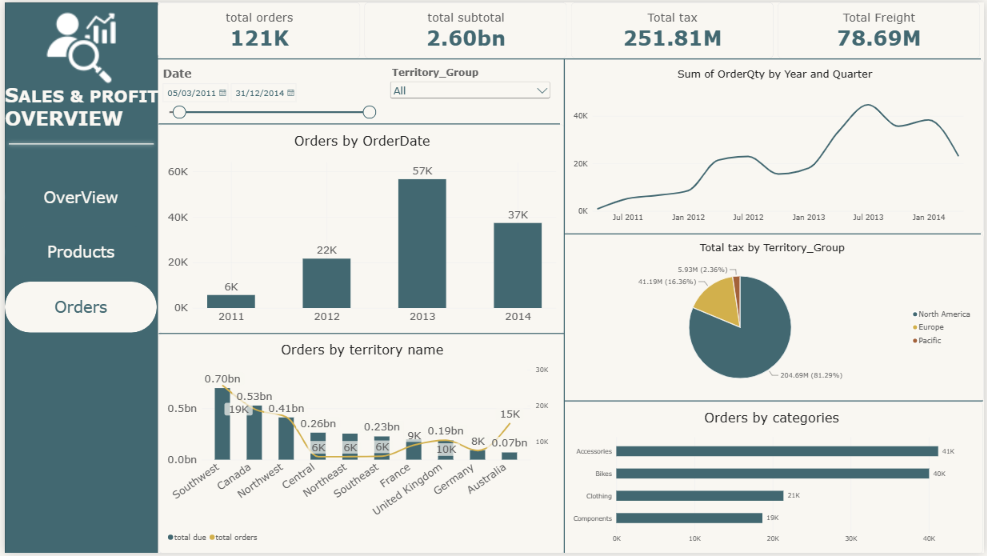

The dashboard page shown, as its layout file describes it:
{"tool":"powerbi","page":{"name":"Orders","canvas":[1920,1080],"ordinal":2},"visuals":[{"type":"pieChart","fields":{"Category":["dim territory.Territory_Group"],"Y":["Measures (2).Total tax"]},"box":[1088.2,452.9,831.4,329.4],"z":0},{"type":"shape","box":[0,0,300,1080.4],"z":1},{"type":"shape","box":[0,223.5,300,107.8],"z":3},{"type":"pageNavigator","box":[0,331.4,298,317.6],"z":4},{"type":"image","box":[0,19.6,300,139.2],"z":5},{"type":"textbox","box":[0,158.8,351,158.8],"z":6},{"type":"clusteredColumnChart","title":" Orders by OrderDate ","fields":{"Category":["DATE.YEAR.NUM","DATE.MONTHNUM"],"Y":["Measures (2).total orders"]},"box":[302,239.2,796.1,409.8],"z":7},{"type":"clusteredBarChart","title":" Orders by categories","fields":{"Category":["dim product.Product_Category","dim product.Product_Sub_Category","dim product.Product_Name"],"Y":["Measures (2).total orders"]},"box":[1088.2,782.4,829.4,298],"z":8},{"type":"lineStackedColumnComboChart","title":" Orders by territory name","fields":{"Category":["dim territory.Territory_Name"],"Y":["Measures (2).total due"],"Y2":["Measures (2).total orders"]},"box":[302,649,796.1,431.4],"z":9},{"type":"lineChart","fields":{"Category":["DATE.Date.Variation.Date Hierarchy.Year","DATE.Date.Variation.Date Hierarchy.Quarter","DATE.Date.Variation.Date Hierarchy.Month"],"Y":["Sum(fact orders.OrderQty)"]},"box":[1098,111.8,821.6,341.2],"z":10},{"type":"cardVisual","fields":{"Data":["Measures (2).total orders","Measures (2).total subtotal","Measures (2).Total tax","Measures (2).Total Freight"]},"box":[300,0,1613.7,109.8],"z":11},{"type":"slicer","fields":{"Values":["dim territory.Territory_Group"]},"box":[751,125.5,323.5,166.7],"z":12},{"type":"slicer","fields":{"Values":["DATE.Date"]},"box":[302,125.5,429.4,166.7],"z":13},{"type":"shape","box":[1098,727.5,819.6,107.8],"z":14},{"type":"shape","box":[302,223.5,798,29.4],"z":15},{"type":"shape","box":[298,56.9,1615.7,107.8],"z":16},{"type":"shape","box":[1098,400,815.7,107.8],"z":17},{"type":"shape","box":[302,562.7,796.1,172.5],"z":18},{"type":"shape","box":[988.2,109.8,217.6,970.6],"z":19}]}

Visuals, with their boxes in screenshot pixels (x1, y1, x2, y2), scaled from the page's 1920x1080 canvas onto the 987x556 screenshot:
pieChart - dim territory.Territory_Group x Measures (2).Total tax: pyautogui.locateOnScreen(559, 233, 986, 403)
shape: pyautogui.locateOnScreen(0, 0, 154, 555)
shape: pyautogui.locateOnScreen(0, 115, 154, 171)
pageNavigator: pyautogui.locateOnScreen(0, 171, 153, 334)
image: pyautogui.locateOnScreen(0, 10, 154, 82)
textbox: pyautogui.locateOnScreen(0, 82, 180, 164)
" Orders by OrderDate " clusteredColumnChart: pyautogui.locateOnScreen(155, 123, 564, 334)
" Orders by categories" clusteredBarChart: pyautogui.locateOnScreen(559, 403, 986, 555)
" Orders by territory name" lineStackedColumnComboChart: pyautogui.locateOnScreen(155, 334, 564, 555)
lineChart - DATE.Date.Variation.Date Hierarchy.Year x DATE.Date.Variation.Date Hierarchy.Quarter: pyautogui.locateOnScreen(564, 58, 986, 233)
cardVisual - Measures (2).total orders x Measures (2).total subtotal: pyautogui.locateOnScreen(154, 0, 984, 57)
slicer - dim territory.Territory_Group: pyautogui.locateOnScreen(386, 65, 552, 150)
slicer - DATE.Date: pyautogui.locateOnScreen(155, 65, 376, 150)
shape: pyautogui.locateOnScreen(564, 375, 986, 430)
shape: pyautogui.locateOnScreen(155, 115, 565, 130)
shape: pyautogui.locateOnScreen(153, 29, 984, 85)
shape: pyautogui.locateOnScreen(564, 206, 984, 261)
shape: pyautogui.locateOnScreen(155, 290, 564, 378)
shape: pyautogui.locateOnScreen(508, 57, 620, 555)
